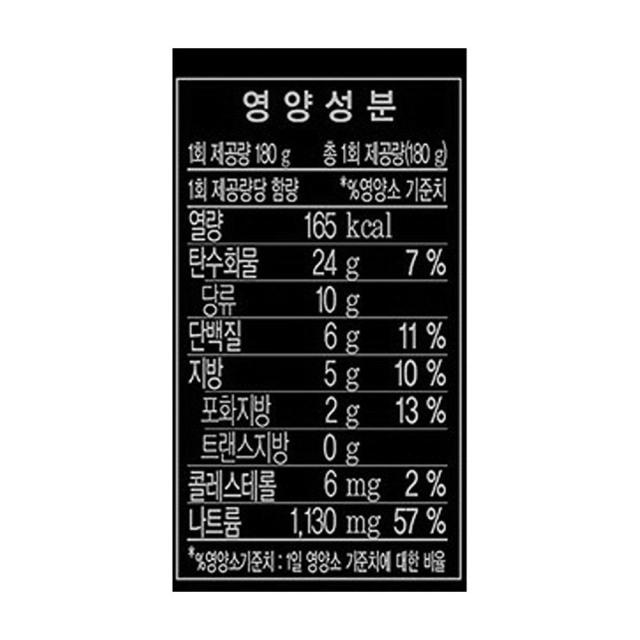Nutrition Label: (177, 46, 478, 598)
